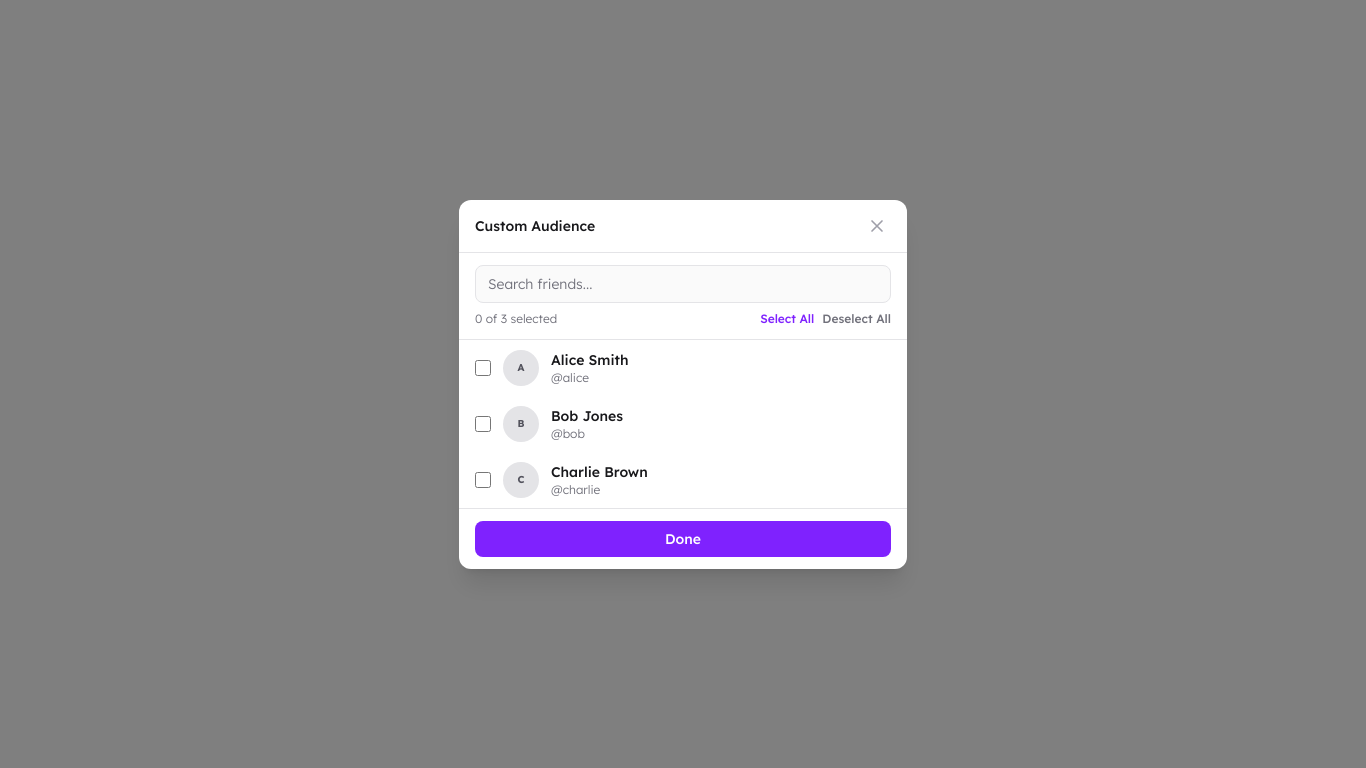
Test case: AudiencePicker › filters friends by search input
This screenshot has width=1366, height=768.
Expected: the text "Alice Smith" is shown, [551,350,628,370]
Type "alice" into the field with test id "audience-search" at (683,284), box [475,264,891,302]
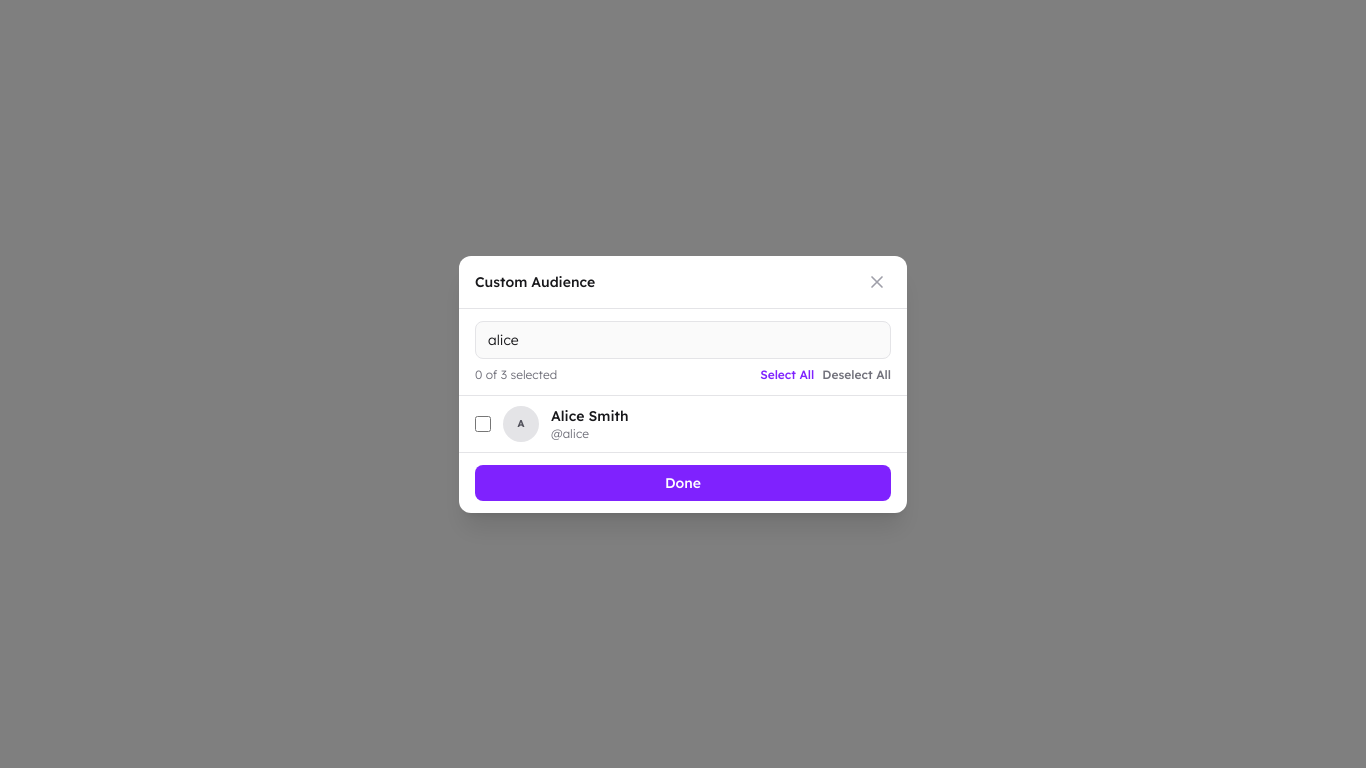
Expected: the text "Alice Smith" is shown, [551,406,628,426]
Now the text "Bob Jones" is gone
Now the text "Charlie Brown" is gone
